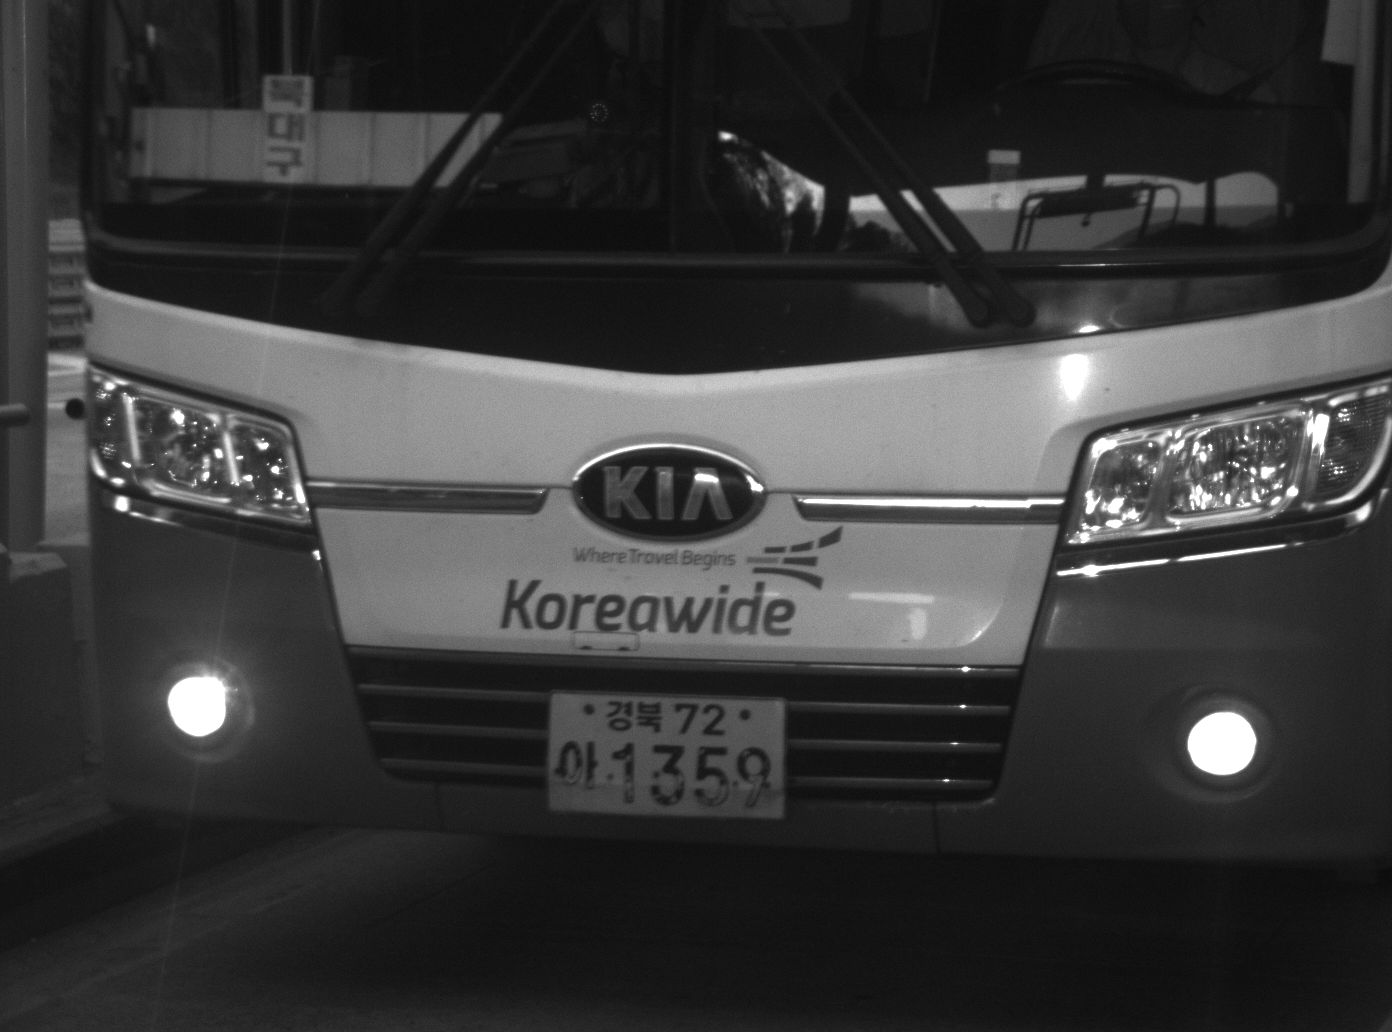car: (83, 1, 1392, 878)
plate: (543, 690, 786, 819)
